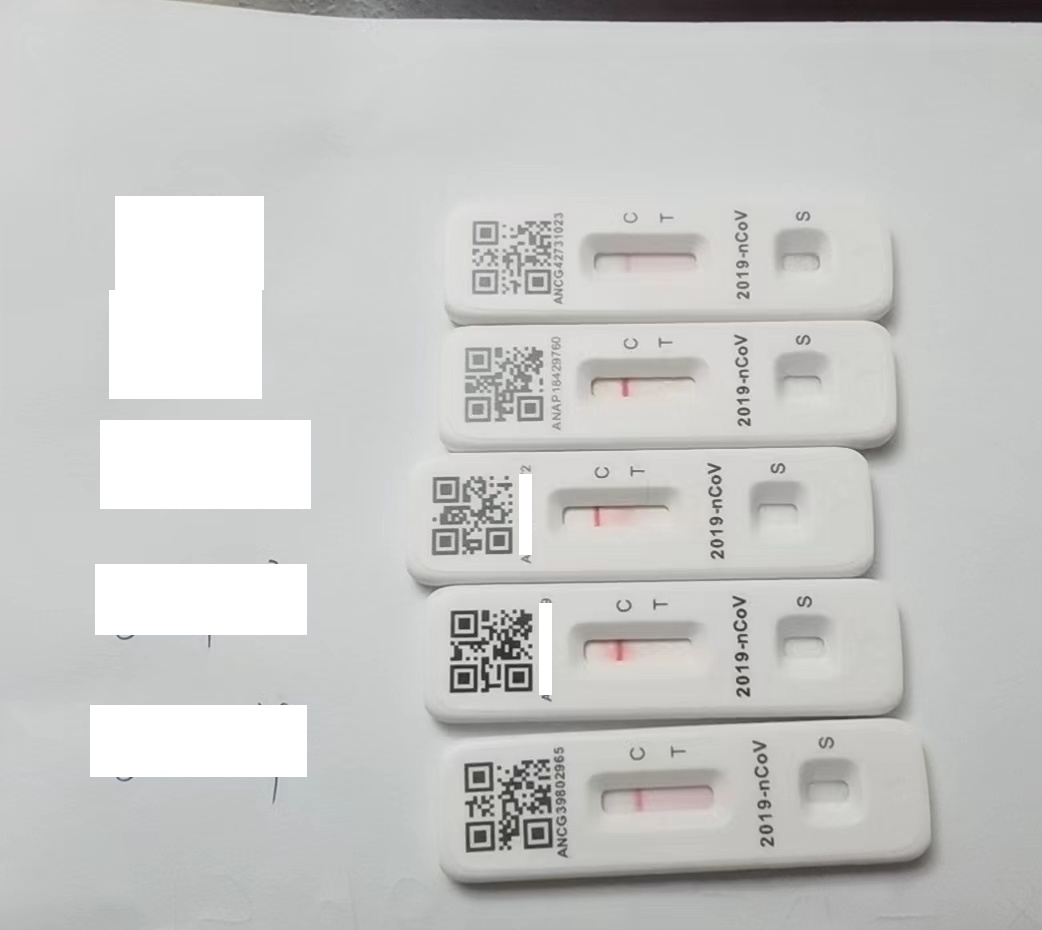negative: (576, 621, 701, 680), (593, 768, 718, 826)
